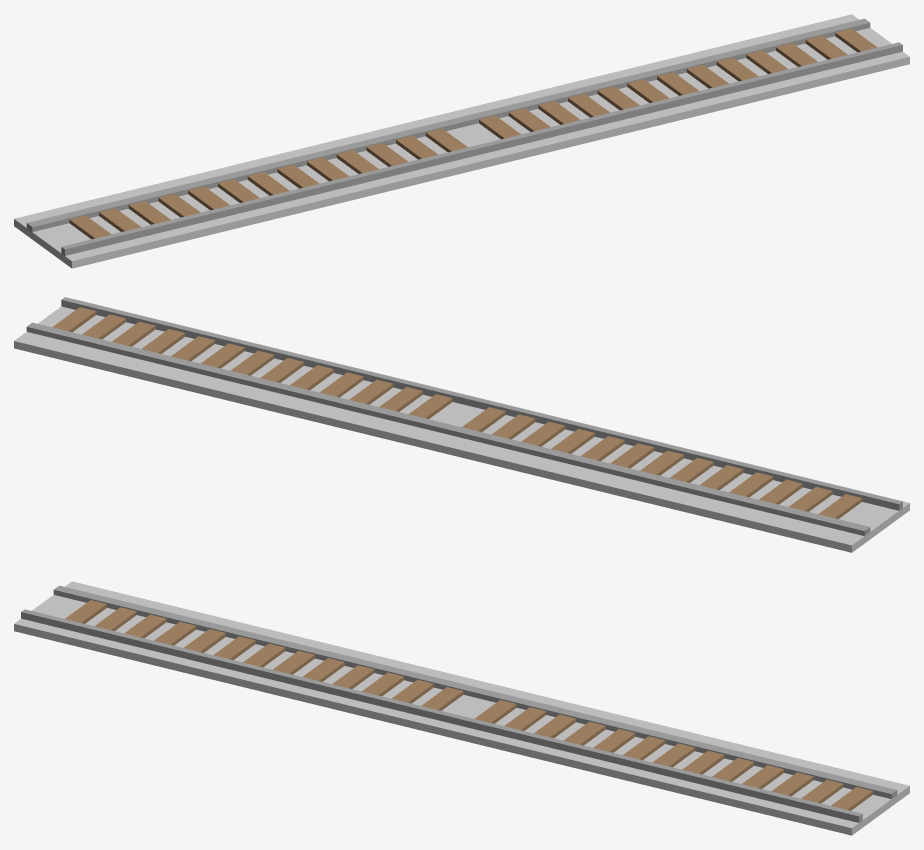
Rendered from senro_03.fbx.
The picture shows the model from 3 angles, top to bottom: view 1: azimuth 30°, elevation 25°; view 2: azimuth 150°, elevation 25°; view 3: azimuth 330°, elevation 25°; orthographic projection.
Visible parts, largest first — view 1: senro_matome01__02; view 2: senro_matome01__02; view 3: senro_matome01__02.
Boxes of the visible parts, box(x1,y1,x2,y2) form: senro_matome01__02: box(14, 14, 909, 268); senro_matome01__02: box(14, 297, 909, 552); senro_matome01__02: box(14, 581, 909, 835).
Bounding box in the file's own units: 25.12 × 0.4018 × 3.01.
